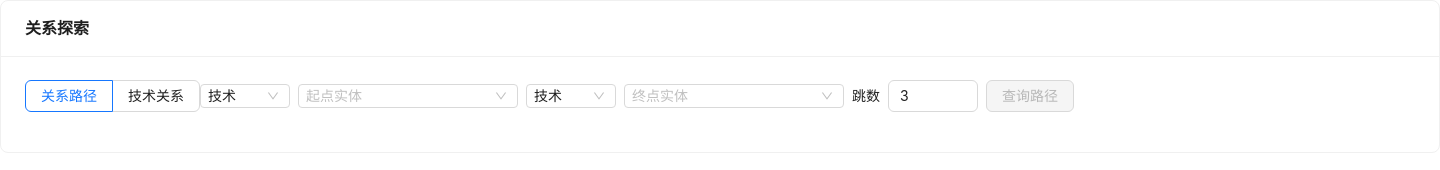
Test: RelationExplore › 切到技术关系模式 → 显示视角 Radio(演进链/前置树)
What coordinates should you click on to do the following:
click the button "技术关系"
I would click on:
 (156, 96)
Its box is [128,87,184,104].
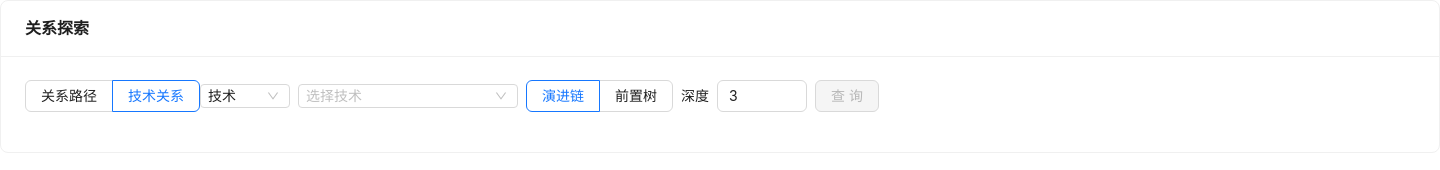
Check: the button "演进链" is shown, box [542,87,584,104]
Check: the button "前置树" is shown, box [615,87,657,104]
